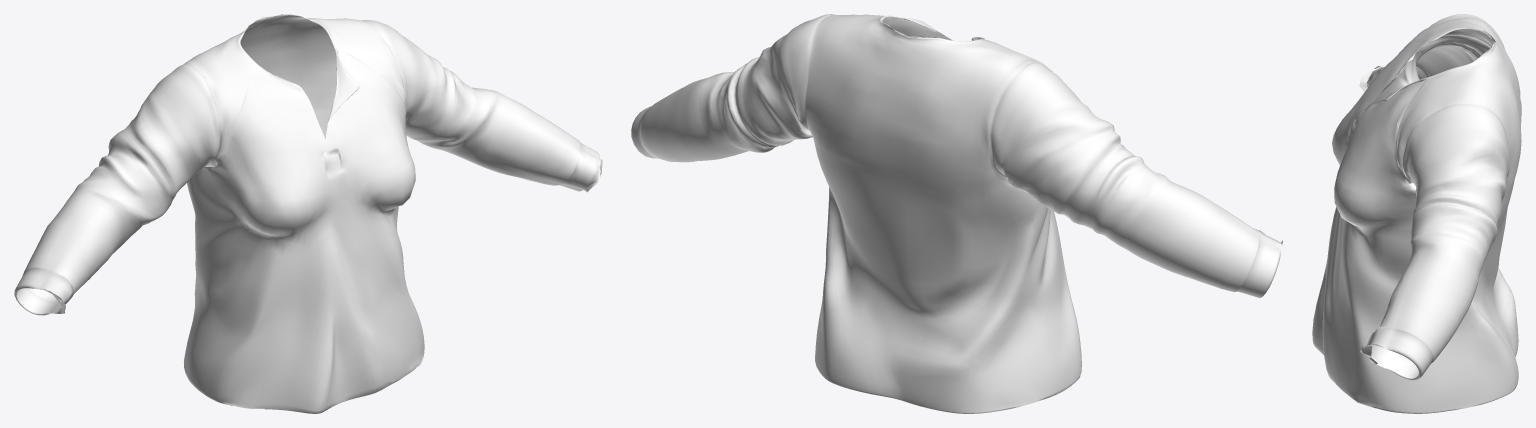
Rendered from Longsleeve.glb.
The picture shows the model from 3 angles, left to right: view 1: azimuth 30°, elevation 25°; view 2: azimuth 150°, elevation 25°; view 3: azimuth 270°, elevation 25°; orthographic projection. The views are drawn at different scales.
Visible parts, largest first — view 1: Newport_Shirt_10879.001; view 2: Newport_Shirt_10879.001; view 3: Newport_Shirt_10879.001.
Boxes of the visible parts, x1,y1,x2,y2 form: Newport_Shirt_10879.001: (14,14,602,413); Newport_Shirt_10879.001: (631,14,1283,413); Newport_Shirt_10879.001: (1312,14,1521,413).
Bounding box in the file's own units: 21.53 × 11.5 × 6.76.
1 material, 1 textured.
